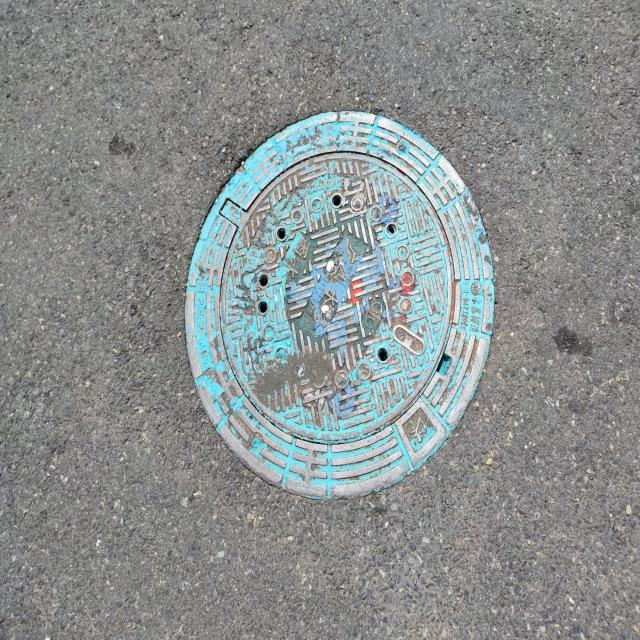Good: (179, 109, 496, 506)
